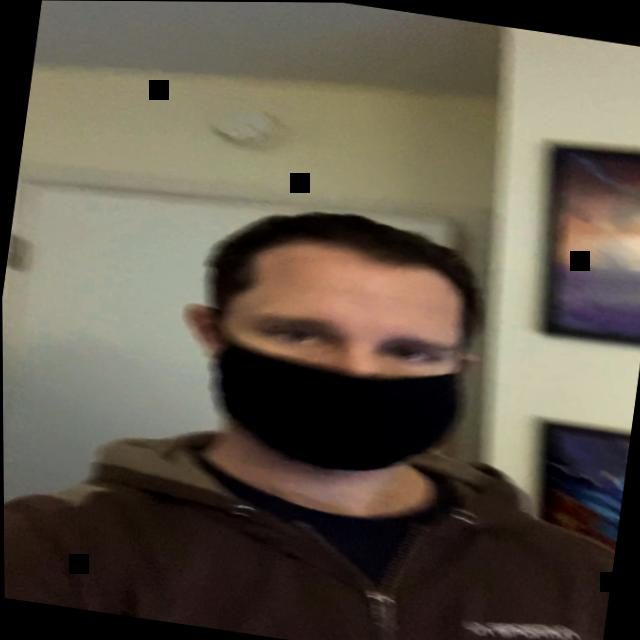Mask: (166, 210, 512, 524)
